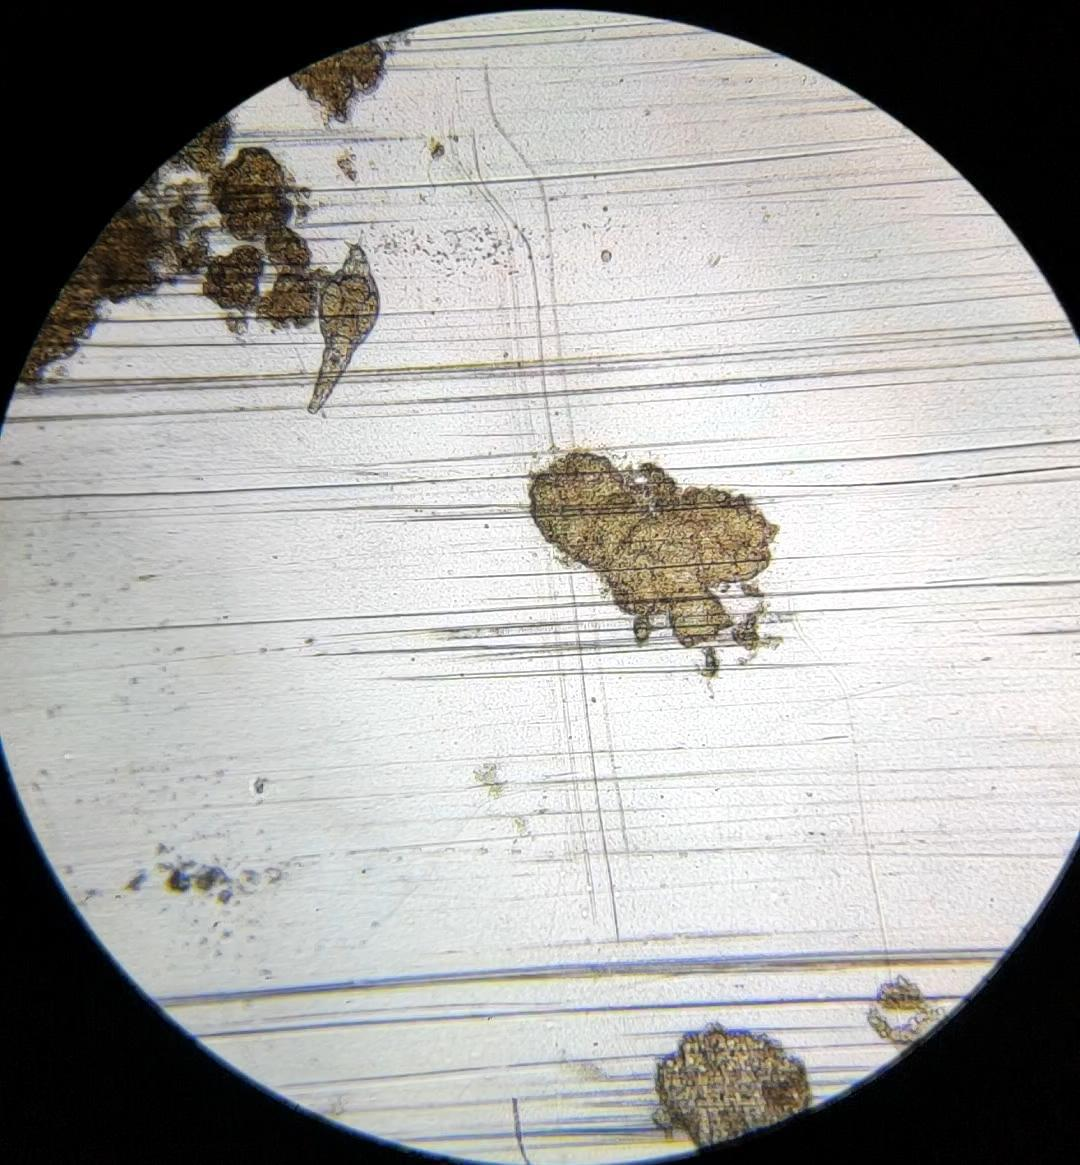Do: (308, 229, 380, 416)
